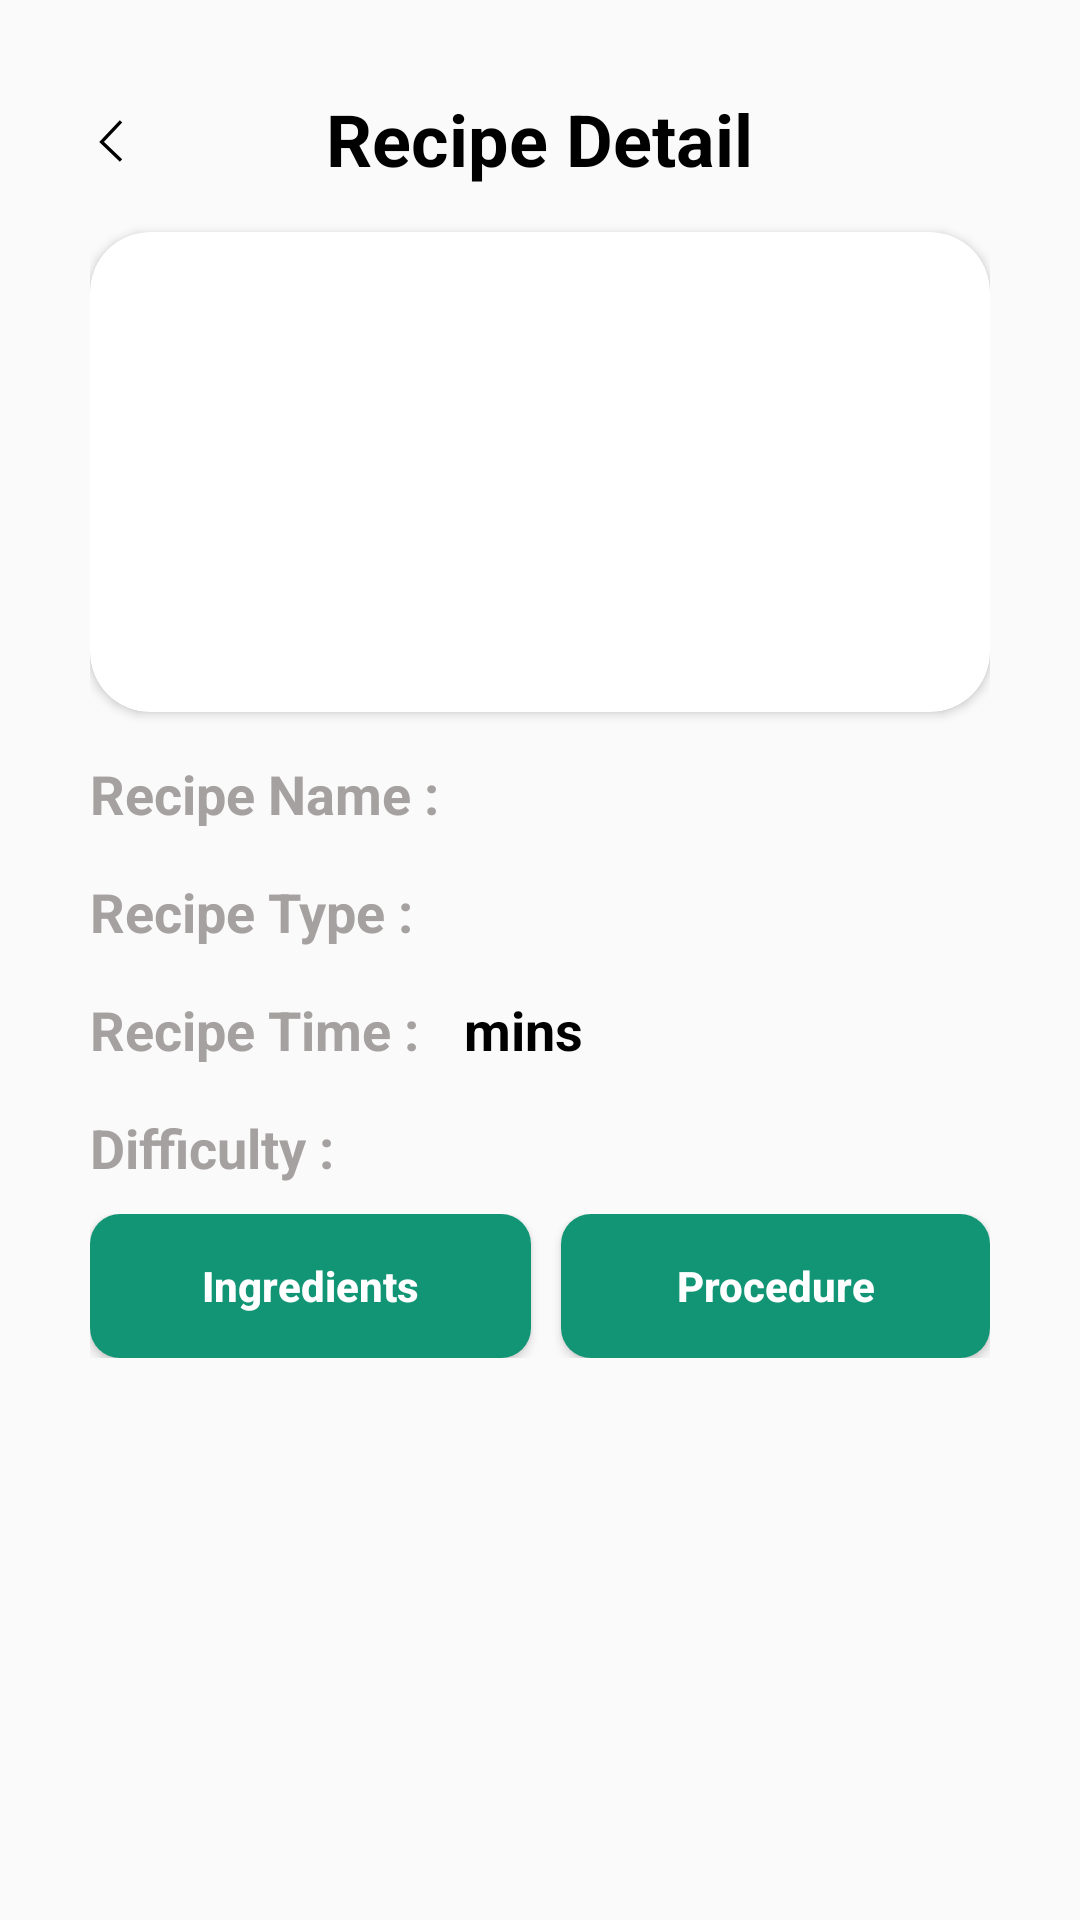

Named icons in this screenshot (1080w x 1920h) and their bounding boxes, rect(x1, y1, x2, y2):
back arrow: rect(99, 120, 122, 162)
